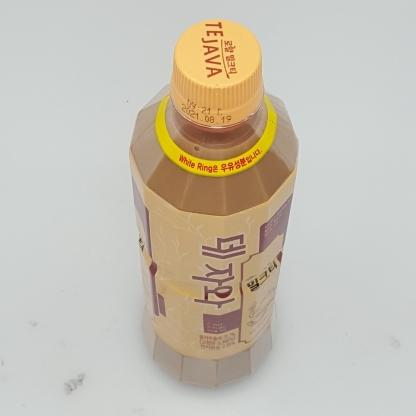-------------500ML: (129, 19, 299, 387)
